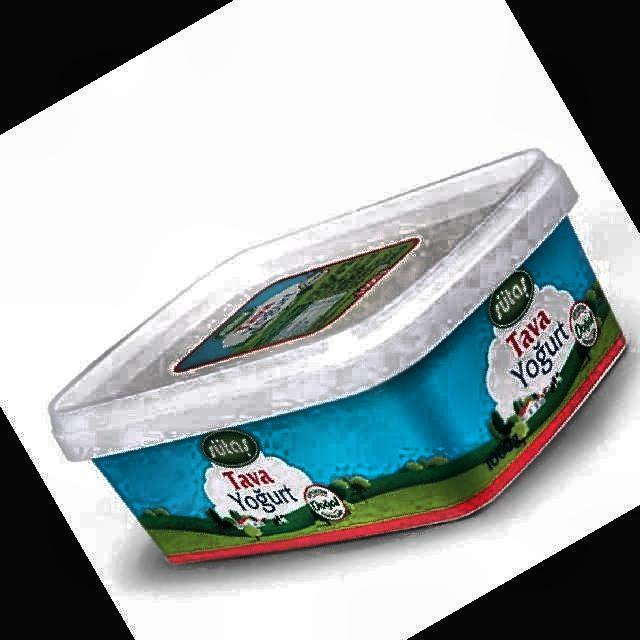plastic: (50, 150, 625, 562)
